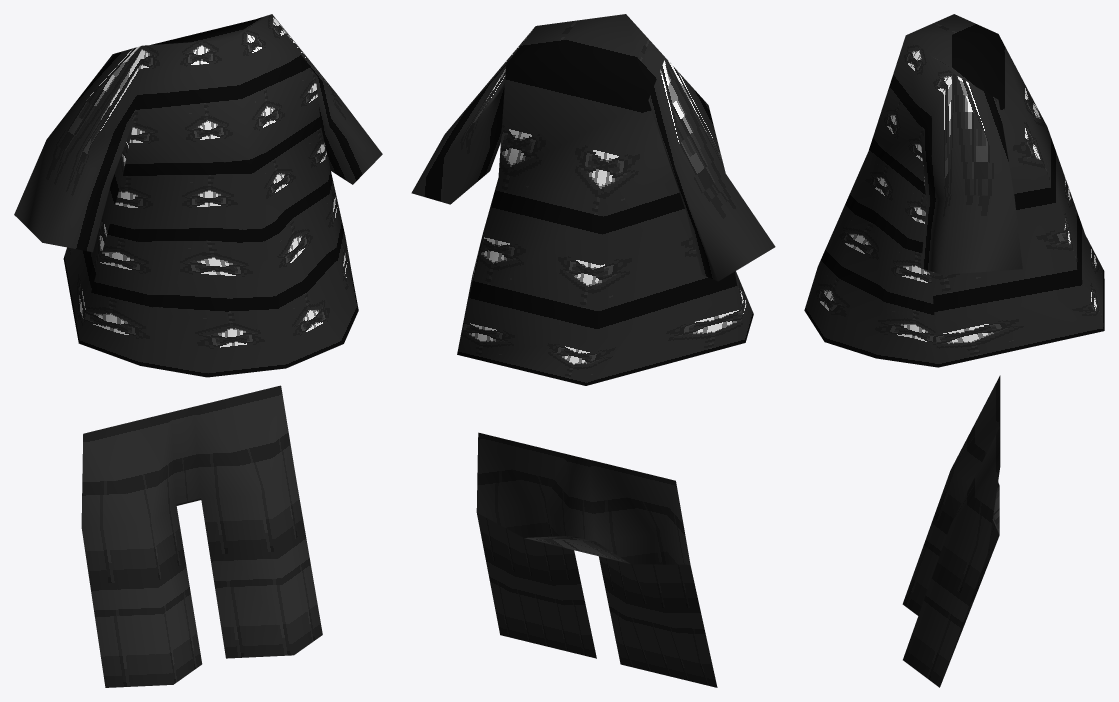
The model's file is 1749cl_set_bot.gltf.
3 views of the same model, side by side, from view 1: azimuth 30°, elevation 25°; view 2: azimuth 150°, elevation 25°; view 3: azimuth 270°, elevation 25° (orthographic). The views are drawn at different scales.
Visible parts, largest first — view 1: 1749cl_set_bot; view 2: 1749cl_set_bot; view 3: 1749cl_set_bot.
Part boxes in pixels (left/top/right/bottom): 1749cl_set_bot: left=14, top=14, right=382, bottom=687; 1749cl_set_bot: left=411, top=14, right=775, bottom=687; 1749cl_set_bot: left=804, top=14, right=1104, bottom=687.
Size of the model in its own units: 1.09 by 1.96 by 0.8848.
2 materials, 2 textured.
